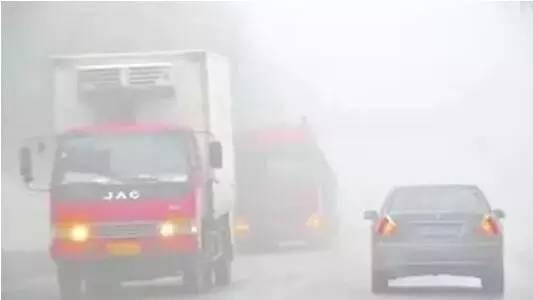bus: (16, 49, 236, 294), (218, 114, 340, 248)
car: (363, 183, 506, 294)
